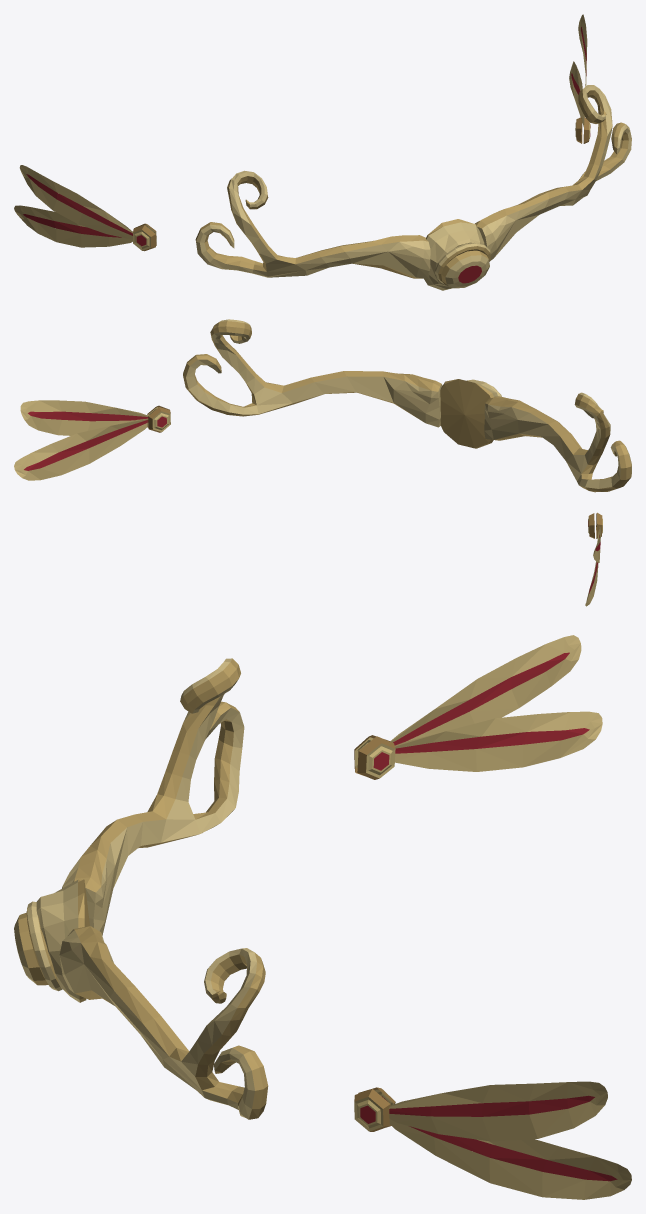
File: smallCrossbowGreekTip.glb
The picture shows the model from 3 angles, top to bottom: view 1: azimuth 30°, elevation 25°; view 2: azimuth 150°, elevation 25°; view 3: azimuth 270°, elevation 25°; orthographic projection. The views are drawn at different scales.
Visible parts, largest first — view 1: smallCrossbowGreekTip; view 2: smallCrossbowGreekTip; view 3: smallCrossbowGreekTip.
Part boxes in pixels (bbox=[...]): smallCrossbowGreekTip: bbox=[14, 14, 631, 290]; smallCrossbowGreekTip: bbox=[14, 319, 631, 606]; smallCrossbowGreekTip: bbox=[14, 635, 631, 1199].
Bounding box in the file's own units: 0.4919 × 0.1023 × 0.2802.
